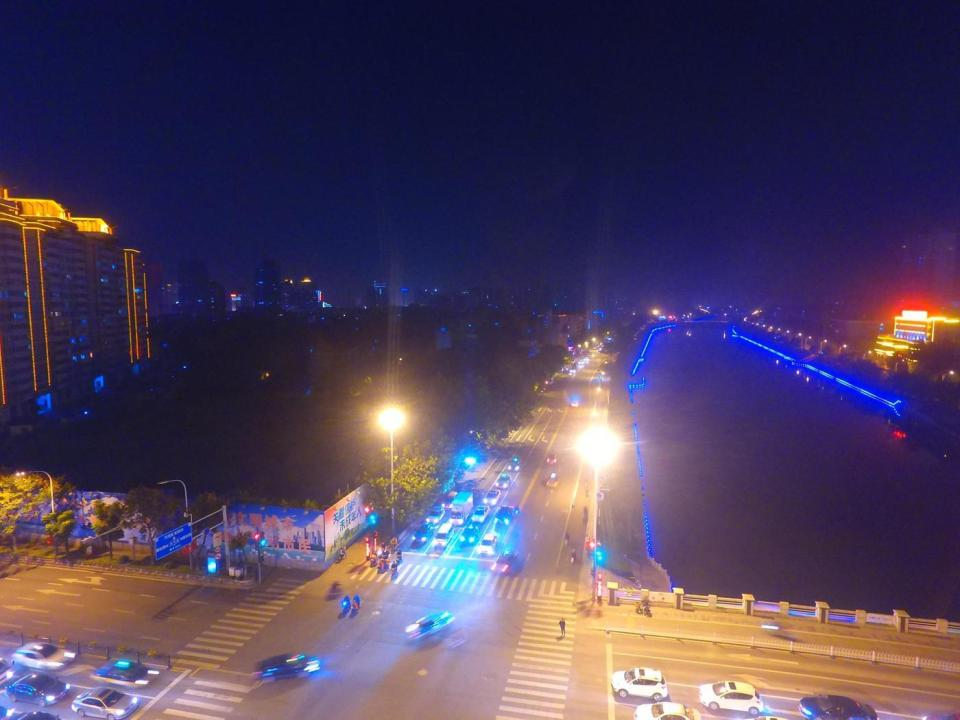car: (4, 671, 72, 708), (698, 680, 764, 718), (88, 658, 161, 688), (70, 686, 138, 718), (10, 639, 78, 671), (797, 694, 880, 720), (251, 652, 320, 682), (610, 667, 668, 701), (402, 609, 454, 639), (633, 702, 703, 720), (490, 546, 518, 573), (458, 523, 479, 547), (411, 522, 435, 542), (477, 534, 497, 556), (493, 505, 512, 525), (426, 505, 446, 524), (470, 504, 491, 522), (482, 488, 501, 505), (441, 490, 457, 509), (494, 473, 512, 489), (544, 471, 559, 488), (507, 456, 520, 470), (546, 453, 556, 464), (593, 372, 602, 382), (570, 400, 578, 406), (578, 360, 584, 365), (584, 356, 588, 362)
truck: (449, 490, 473, 526)
van: (434, 522, 455, 546), (537, 373, 554, 385)
